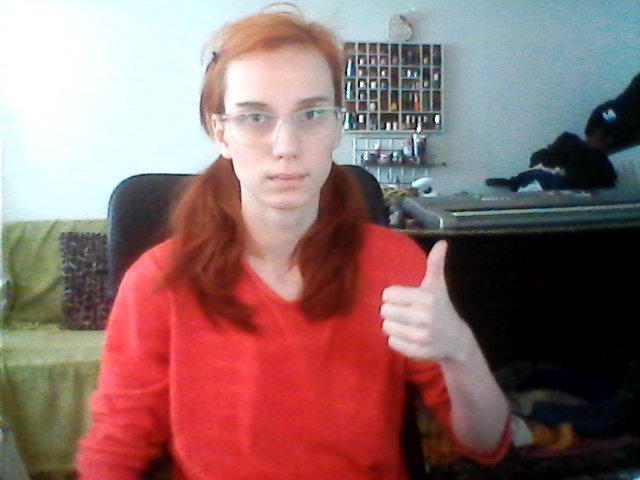jeden: (370, 232, 474, 370)
